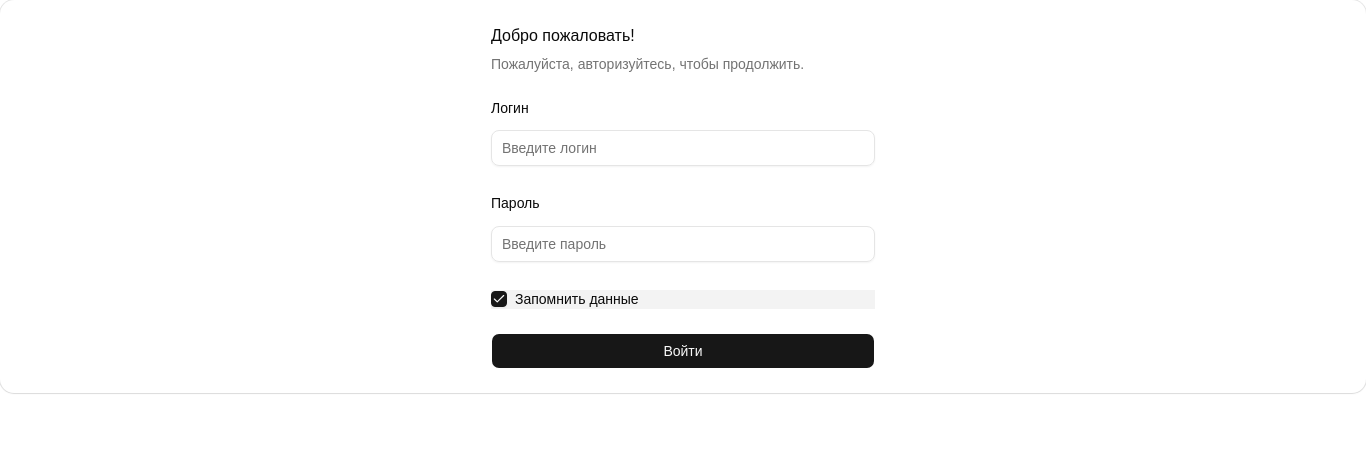
Test: LoginForm › reports a server rejection without leaving a session behind
The image size is (1366, 455).
Type "emilys" into the field labelled "Логин".
click(683, 148); type("emilys")  # box [492, 130, 874, 166]
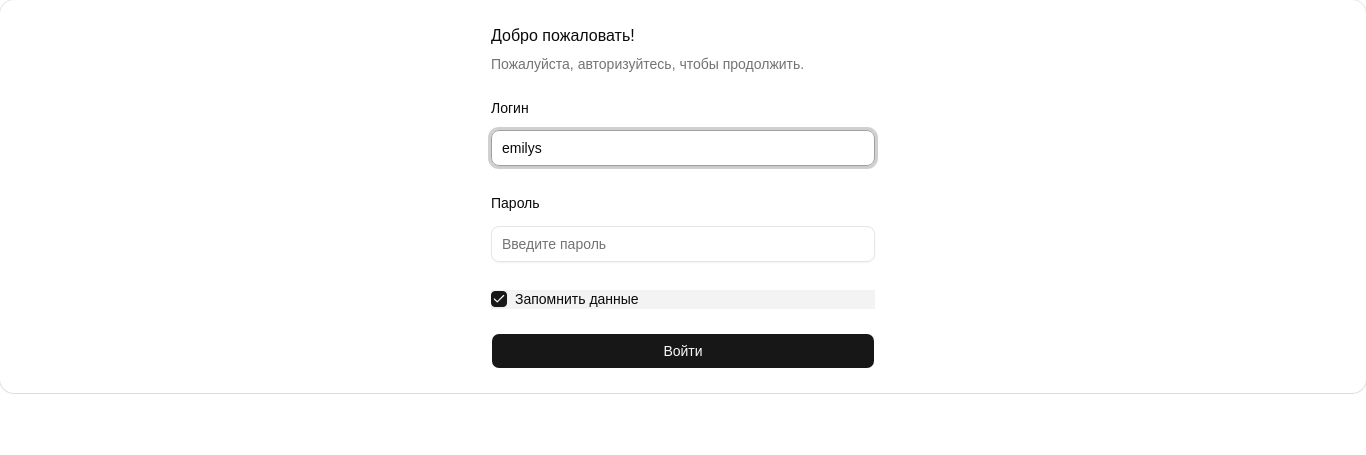
Type "wrong-password" into the password field labelled "Пароль".
click(683, 244); type("wrong-password")  # box [492, 226, 874, 262]
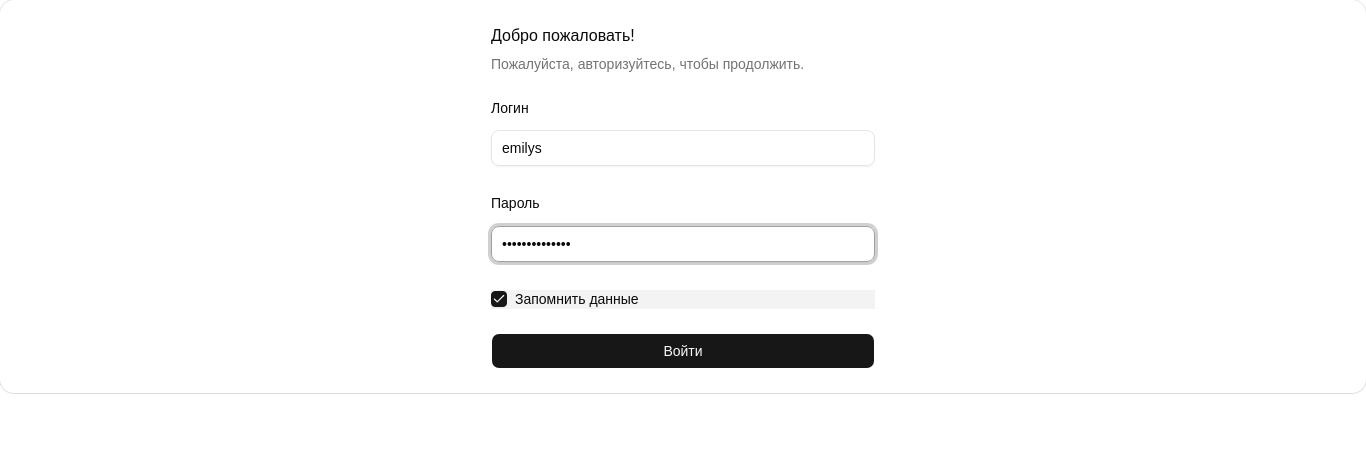
Click the button "Войти".
click(683, 351)  # box [491, 333, 875, 369]
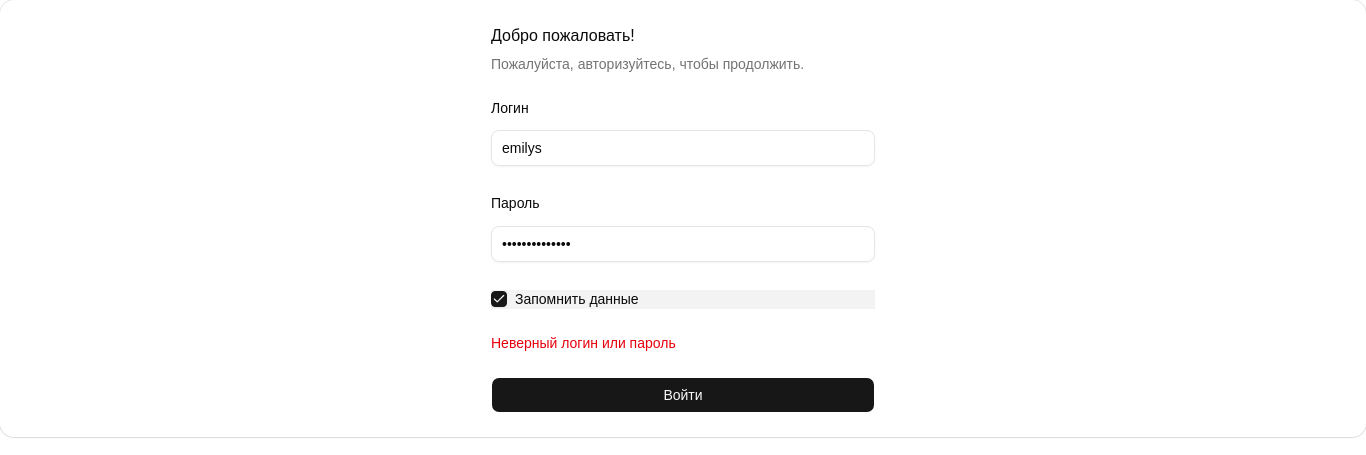
Check: the text "Неверный логин или пароль" is shown, box [491, 335, 676, 351]
